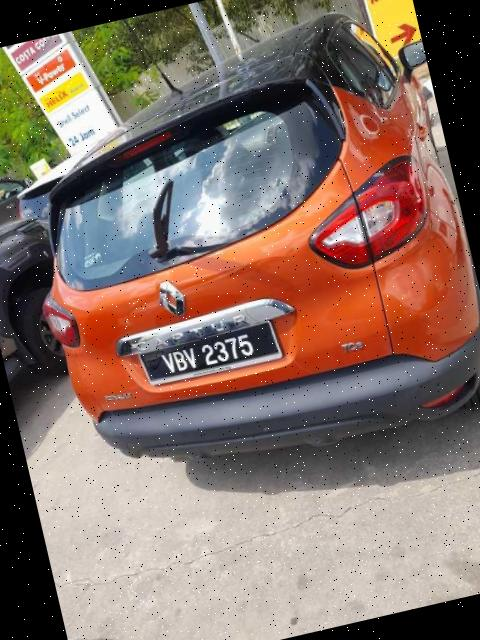License_Plate: (138, 319, 285, 391)
car: (1, 1, 480, 502)
